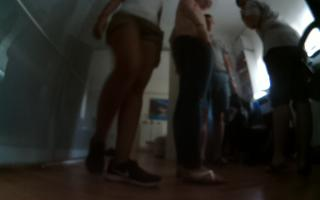person: (78, 1, 170, 194), (234, 1, 320, 177), (166, 1, 229, 191), (203, 12, 238, 170)
